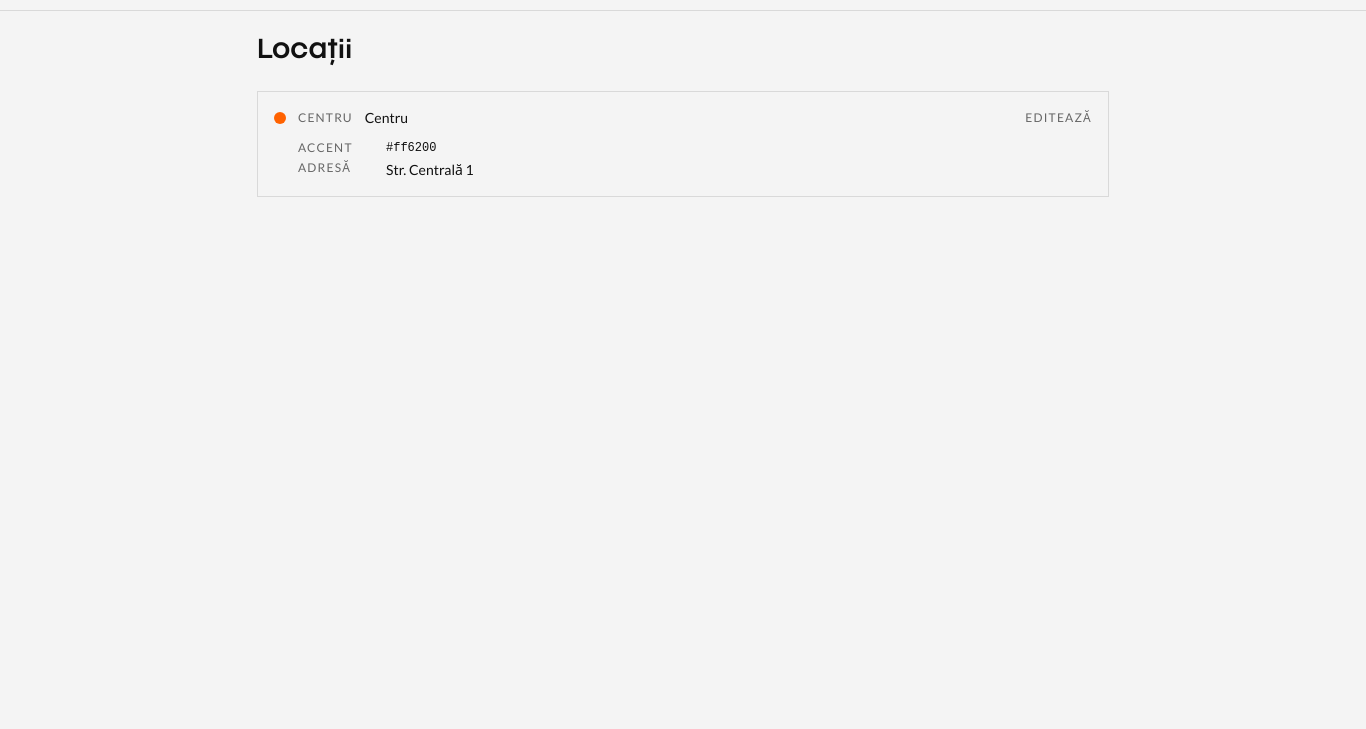
Test: Admin — Locations: structured address › shows the API validation error
Click the button "Editează" at point(1059, 118), box [1025, 110, 1092, 126]
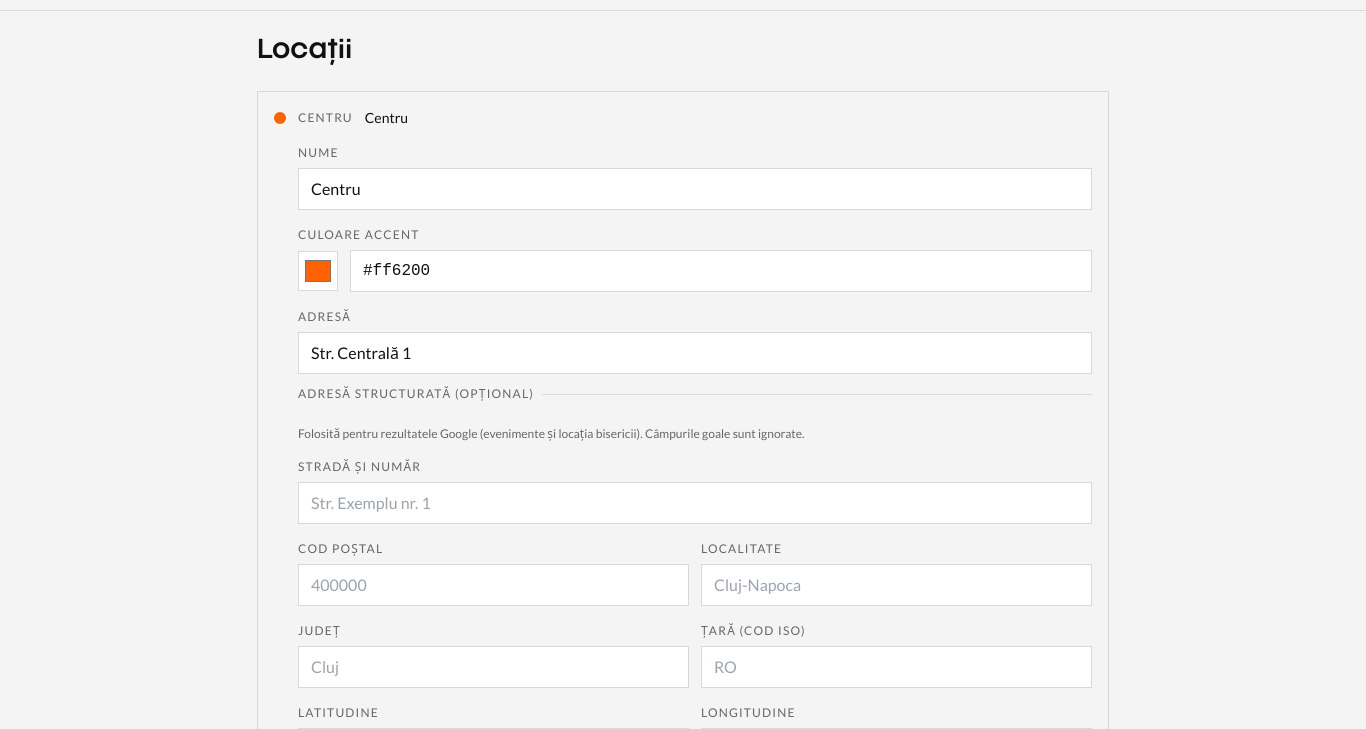
Scroll
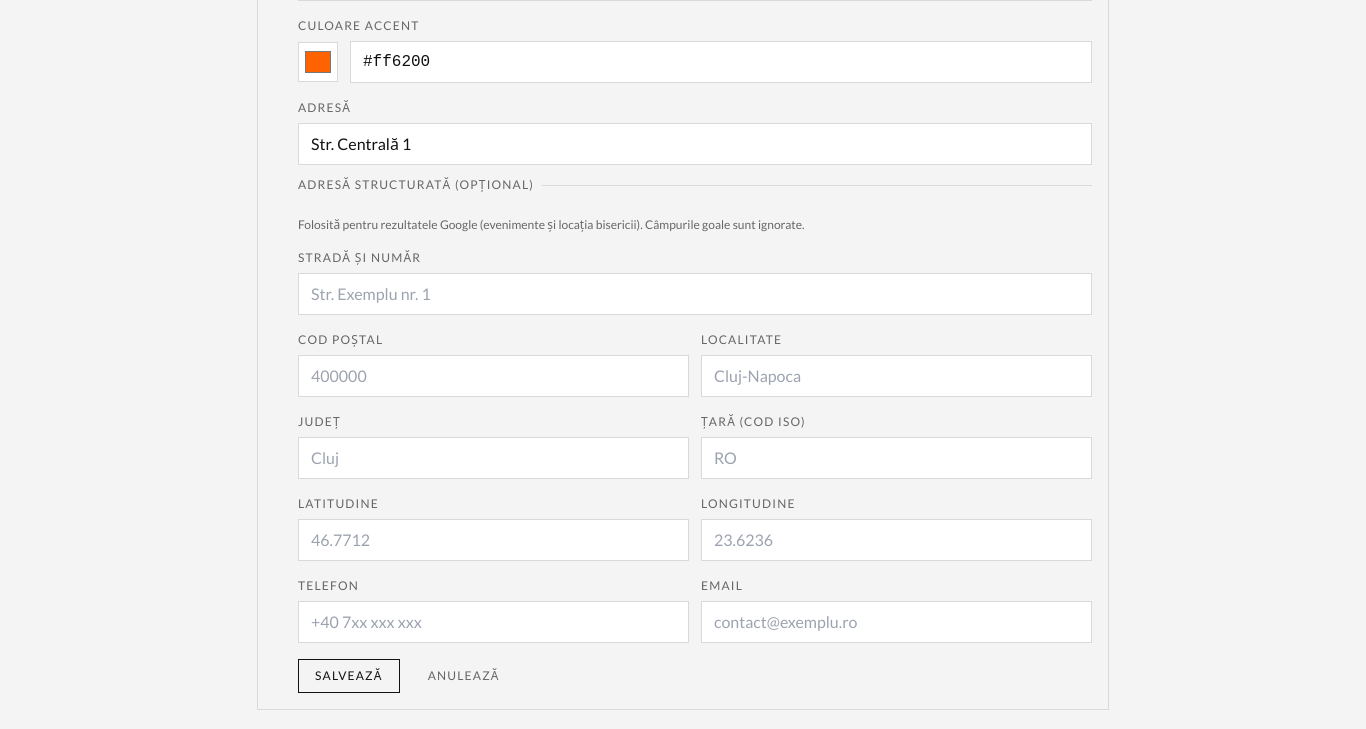
Type "123" into the field with test id "site-latitude-input" at point(494, 540), box [298, 519, 689, 561]
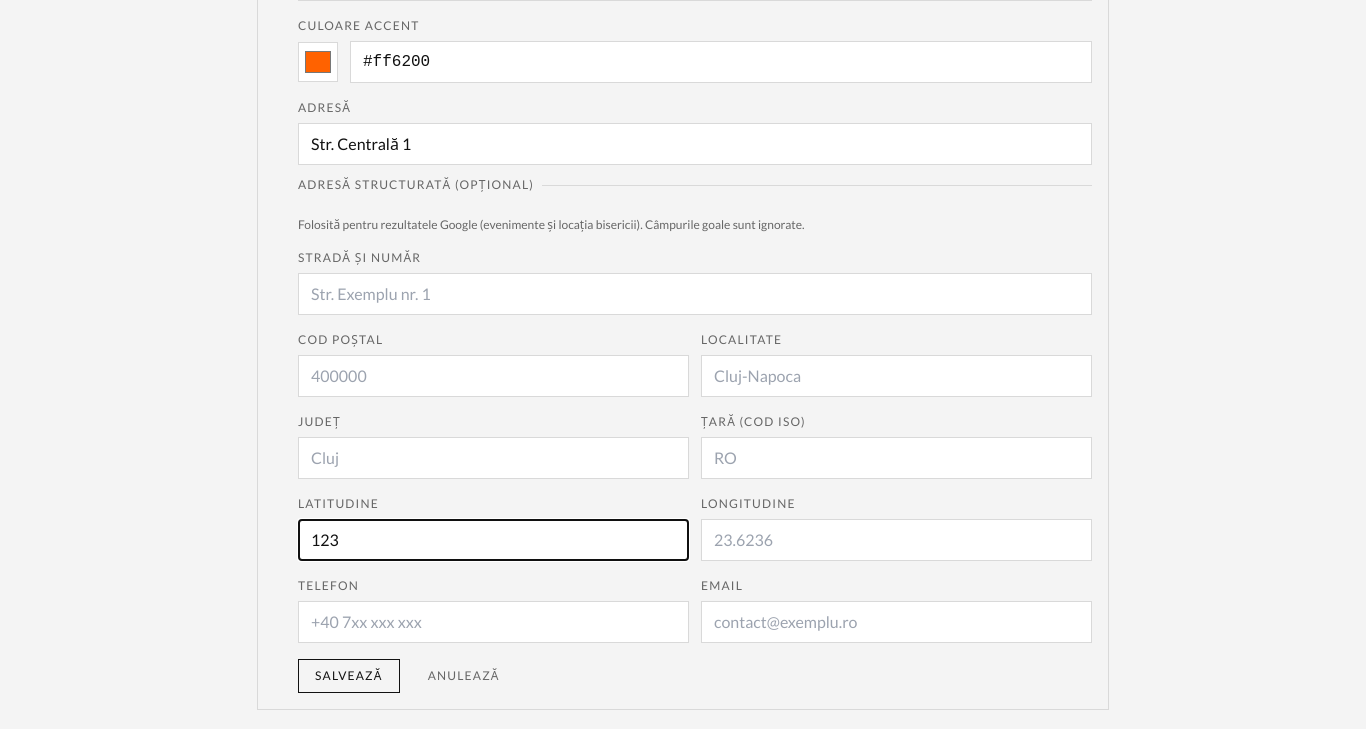
Type "23" into the field with test id "site-longitude-input" at point(897, 540), box [701, 519, 1092, 561]
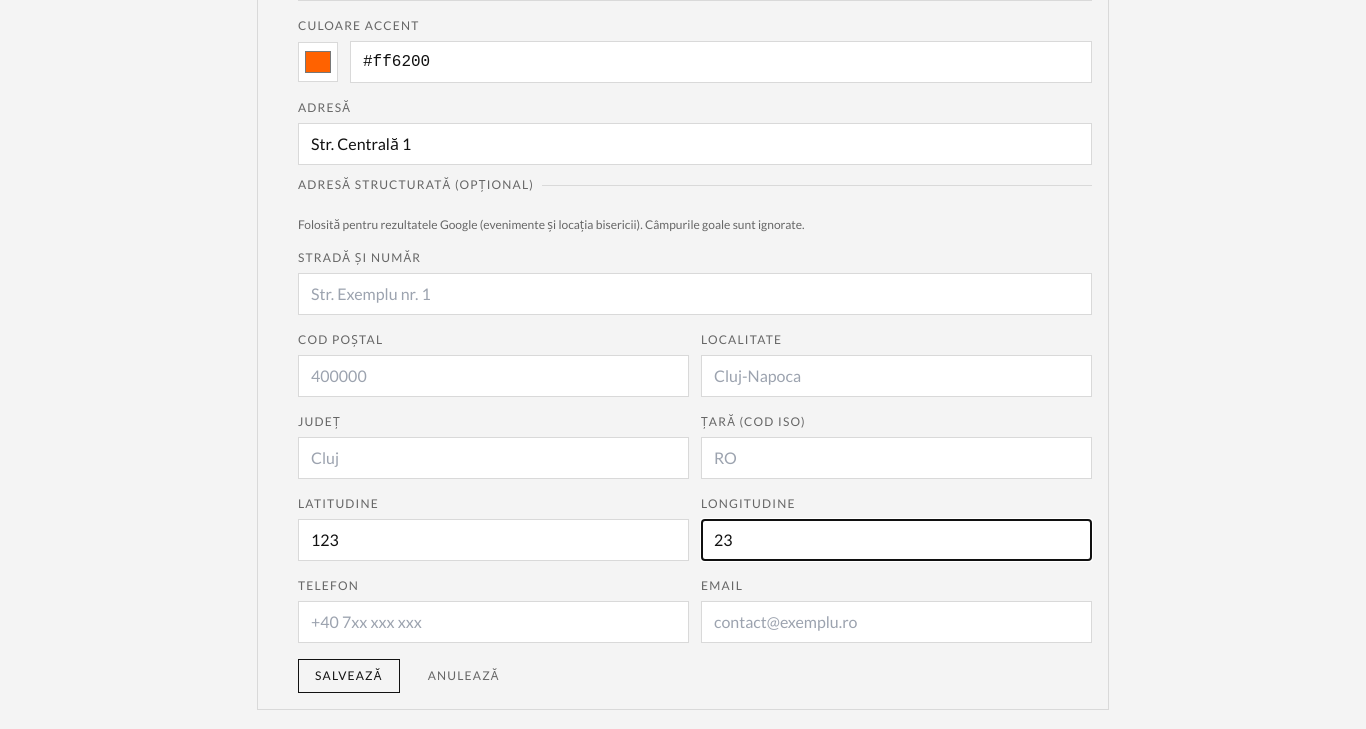
Click the button "Salvează" at point(349, 676), box [298, 659, 400, 693]
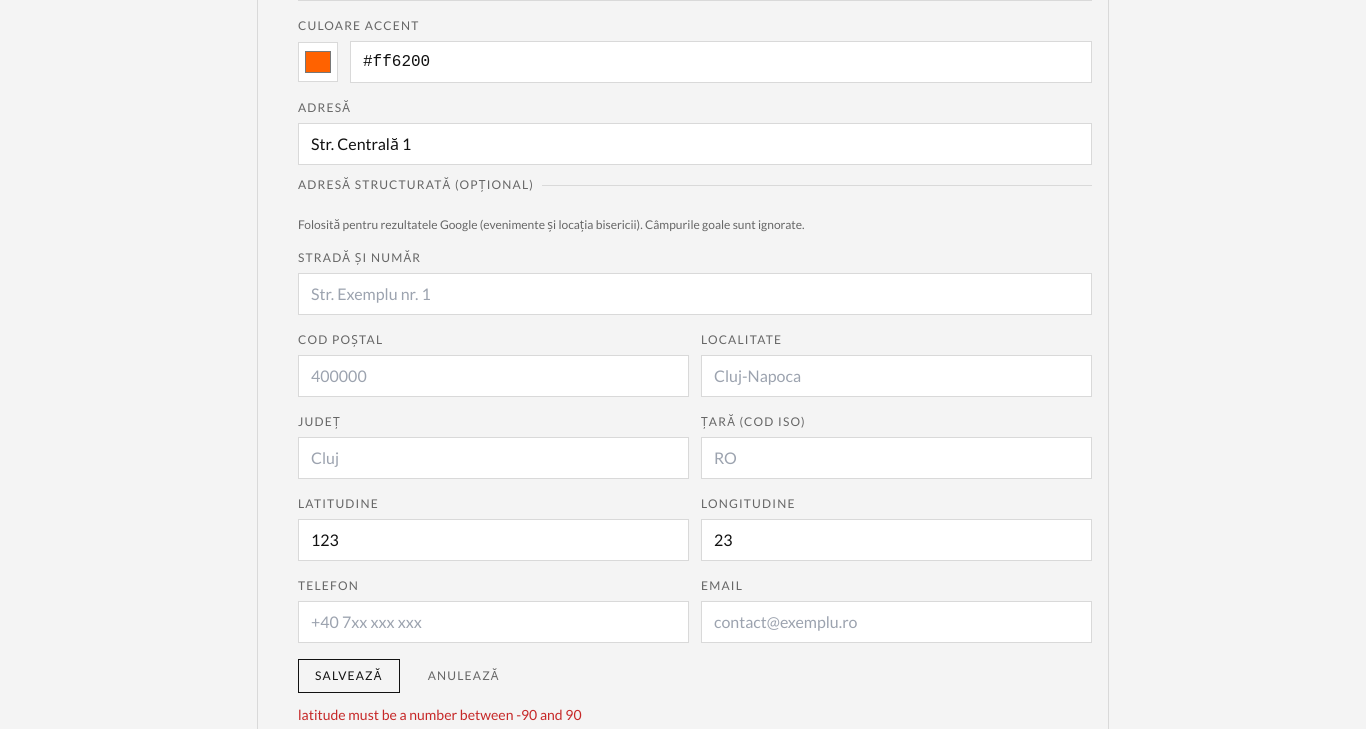
expect the text "latitude must be a number between -90 and 90" is shown: met, box [298, 706, 582, 723]
